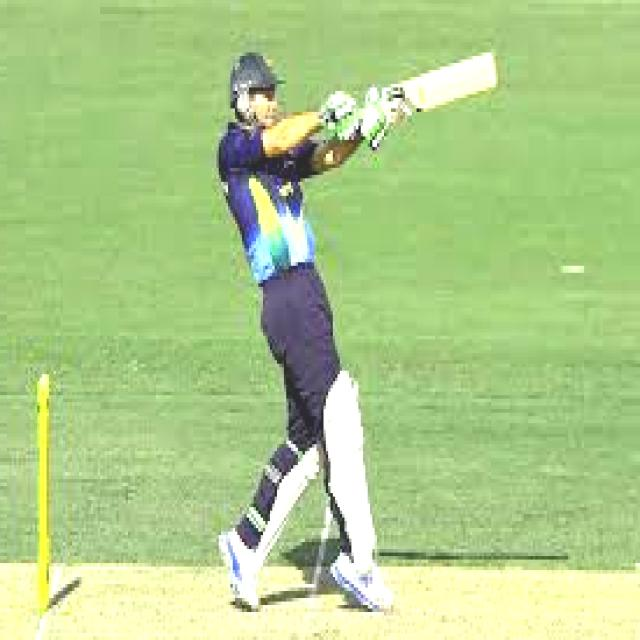toe: (490, 51, 498, 93)
